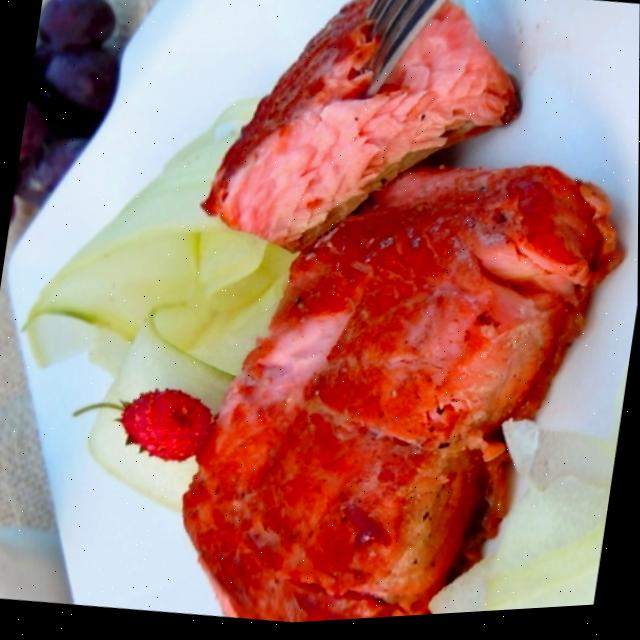熟制海鲜: (9, 0, 640, 639)
